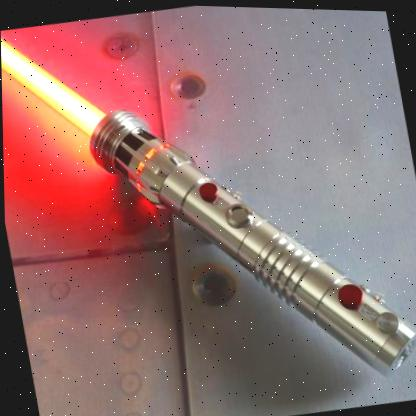sith_lightsaber: (1, 27, 416, 389)
